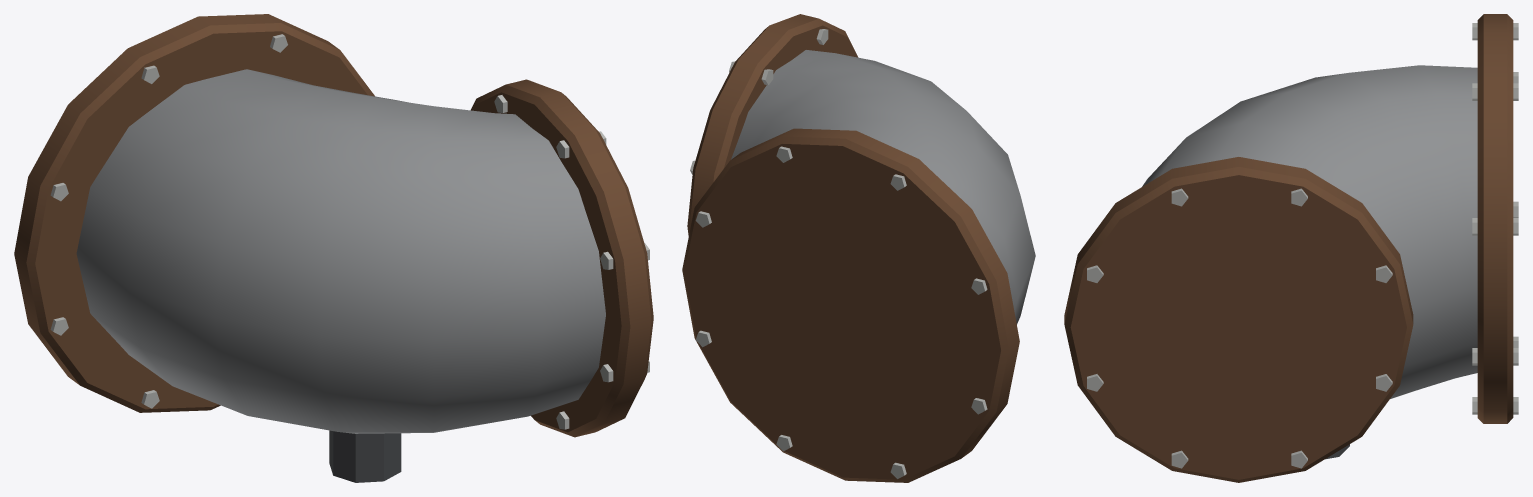
Rendered from pipe-corner-up-right.glb.
3 renders of one model, left to right at view 1: azimuth 30°, elevation 25°; view 2: azimuth 150°, elevation 25°; view 3: azimuth 270°, elevation 25°, orthographic. The views are drawn at different scales.
Visible parts, largest first — view 1: body; view 2: body; view 3: body.
Part boxes in pixels (x1,y1,x2,y2): body: (14,14,653,482); body: (682,14,1035,482); body: (1064,14,1518,482).
Size of the model in its own units: 0.91 by 0.82 by 0.885.
